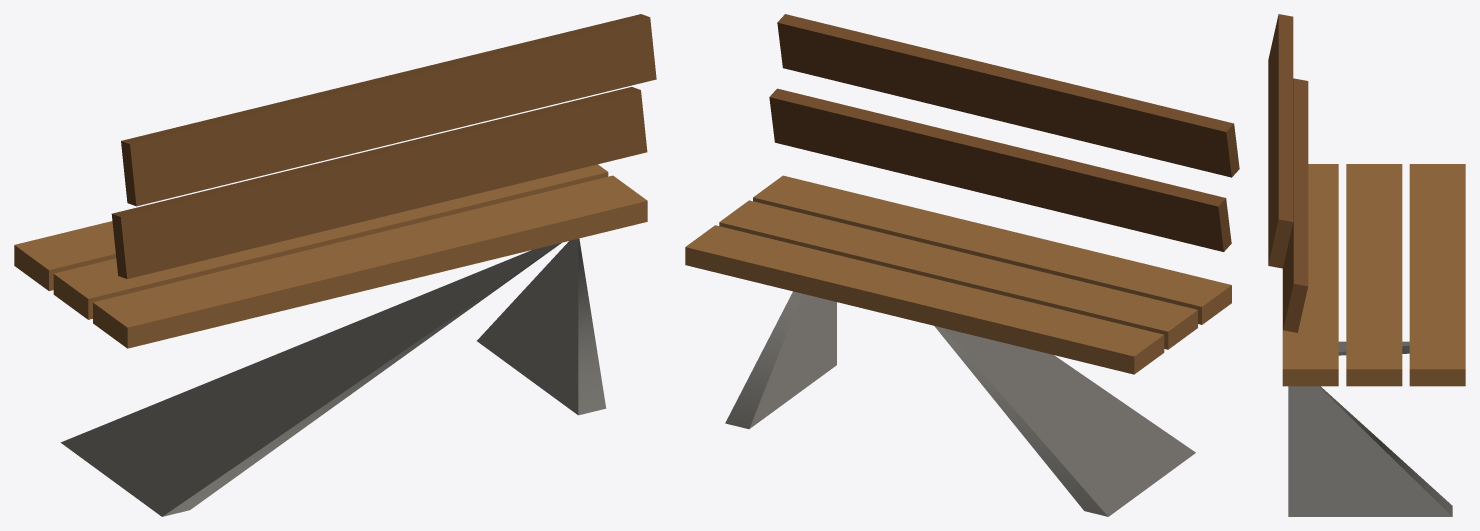
File: prop_bench_02_lod1.glb
3 renders of one model, left to right at view 1: azimuth 30°, elevation 25°; view 2: azimuth 150°, elevation 25°; view 3: azimuth 270°, elevation 25°, orthographic. The views are drawn at different scales.
Visible parts, largest first — view 1: prop_bench_02; view 2: prop_bench_02; view 3: prop_bench_02.
Boxes of the visible parts, x1,y1,x2,y2 form: prop_bench_02: (14, 14, 656, 516); prop_bench_02: (685, 14, 1239, 516); prop_bench_02: (1268, 14, 1465, 516).
Bounding box in the file's own units: 1.3 × 0.9226 × 0.5285.
